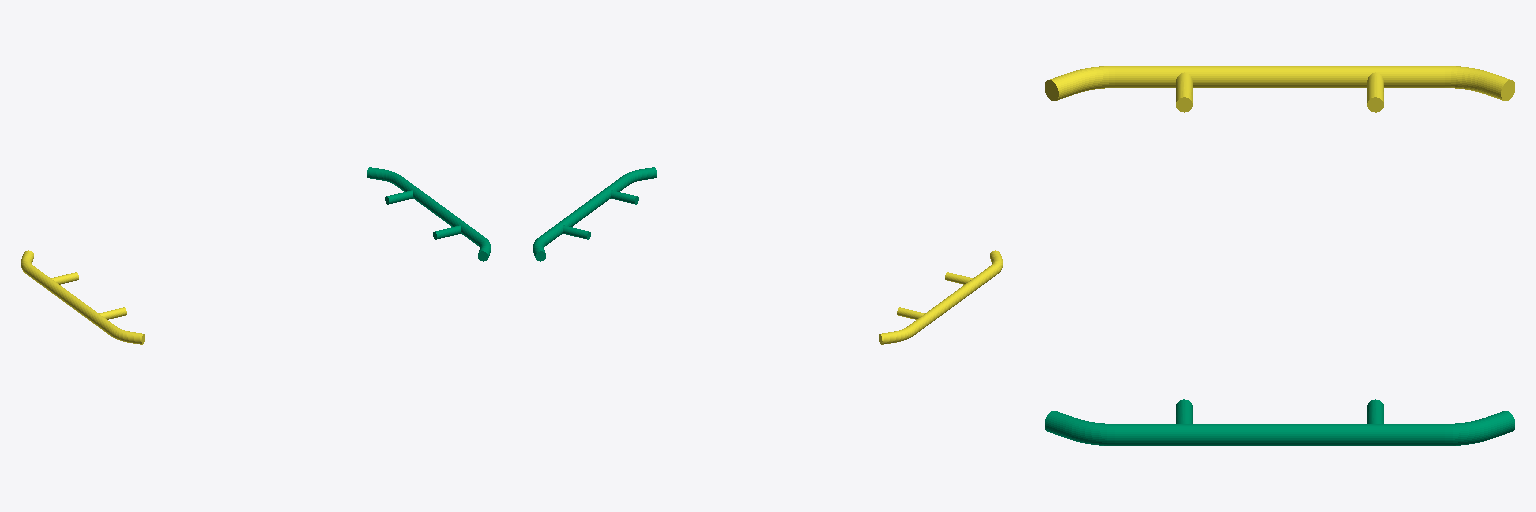
The robot description file, URDF, robot "husky":
<?xml version="1.0" ?>

<!-- ================================================================================================ -->
<!-- Note: This URDF file and associated content are based on files from the GitHub repository below. -->
<!--       Geometry files were converted as necessary to a format supported by Simscape Multibody.    -->
<!--       Adjustments were made to the URDF file for compatibility with Simscape Multibody.          -->
<!--                                                                                                  -->
<!-- GitHub source: https://github.com/husky/husky/tree/0.3.3                                         -->
<!-- ================================================================================================ -->

<!-- =================================================================================== -->
<!-- |    This document was autogenerated by xacro from husky_description/urdf/husky.urdf.xacro | -->
<!-- |    EDITING THIS FILE BY HAND IS NOT RECOMMENDED                                 | -->
<!-- =================================================================================== -->
<!--
Software License Agreement (BSD)

\file      husky.urdf.xacro
\authors   [author] <[email redacted]>, [author] <[email redacted]>
\copyright Copyright (c) 2015, Clearpath Robotics, Inc., All rights reserved.

Redistribution and use in source and binary forms, with or without modification, are permitted provided that
the following conditions are met:
 * Redistributions of source code must retain the above copyright notice, this list of conditions and the
   following disclaimer.
 * Redistributions in binary form must reproduce the above copyright notice, this list of conditions and the
   following disclaimer in the documentation and/or other materials provided with the distribution.
 * Neither the name of Clearpath Robotics nor the names of its contributors may be used to endorse or promote
   products derived from this software without specific prior written permission.

THIS SOFTWARE IS PROVIDED BY THE COPYRIGHT [author] "AS IS" AND ANY EXPRESS OR IMPLIED WAR-
RANTIES, INCLUDING, BUT NOT LIMITED TO, THE IMPLIED WARRANTIES OF MERCHANTABILITY AND FITNESS FOR A PARTICULAR
PURPOSE ARE DISCLAIMED. IN NO EVENT SHALL THE COPYRIGHT [author] LIABLE FOR ANY DIRECT, IN-
DIRECT, INCIDENTAL, SPECIAL, EXEMPLARY, OR CONSEQUENTIAL DAMAGES (INCLUDING, BUT NOT LIMITED TO, PROCUREMENT
OF SUBSTITUTE GOODS OR SERVICES; LOSS OF USE, DATA, OR PROFITS; OR BUSINESS INTERRUPTION) HOWEVER CAUSED AND
ON ANY THEORY OF LIABILITY, WHETHER IN CONTRACT, STRICT LIABILITY, OR TORT (INCLUDING NEGLIGENCE OR OTHERWISE)
ARISING IN ANY WAY OUT OF THE USE OF THIS SOFTWARE, EVEN IF ADVISED OF THE POSSIBILITY OF SUCH DAMAGE.
-->
<robot name="husky" xmlns:xacro="http://ros.org/wiki/xacro">
  <!-- Base link is the center of the robot's bottom plate -->
  <link name="base_link">
    <visual>
      <origin rpy="0 0 0" xyz="0 0 0"/>
      <geometry>
        <mesh filename="husky_base_link.stl"/>
      </geometry>
      <material name="">
        <color rgba="0.8 0.2 0.02 1"/>
      </material>
    </visual>
    <collision>
      <origin rpy="0 0 0" xyz="0.0 0 0.061875"/>
      <geometry>
        <box size="0.9874 0.5709 0.12375"/>
      </geometry>
    </collision>
    <collision>
      <origin rpy="0 0 0" xyz="0 0 0.175625"/>
      <geometry>
        <box size="0.78992 0.5709 0.10375"/>
      </geometry>
    </collision>
  </link>
  <!-- Base footprint is on the ground under the robot -->
  <link name="base_footprint"/>
  <joint name="base_footprint_joint" type="fixed">
    <origin rpy="0 0 0" xyz="0 0 -0.13228"/>
    <parent link="base_link"/>
    <child link="base_footprint"/>
  </joint>
  <!-- Interial link stores the robot's inertial information -->
  <link name="inertial_link">
    <inertial>
      <mass value="46.034"/>
      <origin xyz="-0.00065 -0.085 0.062"/>
      <inertia ixx="0.6022" ixy="-0.02364" ixz="-0.1197" iyy="1.7386" iyz="-0.001544" izz="2.0296"/>
    </inertial>
  </link>
  <joint name="inertial_joint" type="fixed">
    <origin rpy="0 0 0" xyz="0 0 0"/>
    <parent link="base_link"/>
    <child link="inertial_link"/>
  </joint>
  <!-- IMU Link is the standard mounting position for the UM6 IMU.-->
  <!-- Can be modified with environment variables in /etc/ros/setup.bash -->
  <link name="imu_link"/>
  <joint name="imu_joint" type="fixed">
    <origin rpy="0 -1.5708 3.1416" xyz="0.19 0 0.149"/>
    <parent link="base_link"/>
    <child link="imu_link"/>
  </joint>
  <gazebo reference="imu_link">
  </gazebo>
  <link name="front_left_wheel_link">
    <inertial>
      <mass value="2.637"/>
      <origin xyz="0 0 0"/>
      <inertia ixx="0.02467" ixy="0" ixz="0" iyy="0.04411" iyz="0" izz="0.02467"/>
    </inertial>
    <visual>
      <origin rpy="0 0 0" xyz="0 0 0"/>
      <geometry>
        <mesh filename="husky_wheel.stl"/>
      </geometry>
    </visual>
    <collision>
      <origin rpy="1.570795 0 0" xyz="0 0 0"/>
      <geometry>
        <cylinder length="0.1143" radius="0.1651"/>
      </geometry>
    </collision>
  </link>
  <gazebo reference="front_left_wheel_link">
    <mu1 value="1.0"/>
    <mu2 value="1.0"/>
    <kp value="10000000.0"/>
    <kd value="1.0"/>
    <fdir1 value="1 0 0"/>
  </gazebo>
  <joint name="front_left_wheel" type="continuous">
    <parent link="base_link"/>
    <child link="front_left_wheel_link"/>
    <origin rpy="0 0 0" xyz="0.256 0.2854 0.03282"/>
    <axis rpy="0 0 0" xyz="0 1 0"/>
  </joint>
  <transmission name="front_left_wheel_trans" type="SimpleTransmission">
    <type>transmission_interface/SimpleTransmission</type>
    <actuator name="front_left_wheel_motor">
      <mechanicalReduction>1</mechanicalReduction>
    </actuator>
    <joint name="front_left_wheel">
      <hardwareInterface>hardware_interface/VelocityJointInterface</hardwareInterface>
    </joint>
  </transmission>
  <link name="front_right_wheel_link">
    <inertial>
      <mass value="2.637"/>
      <origin xyz="0 0 0"/>
      <inertia ixx="0.02467" ixy="0" ixz="0" iyy="0.04411" iyz="0" izz="0.02467"/>
    </inertial>
    <visual>
      <origin rpy="0 0 0" xyz="0 0 0"/>
      <geometry>
        <mesh filename="husky_wheel.stl"/>
      </geometry>
    </visual>
    <collision>
      <origin rpy="1.570795 0 0" xyz="0 0 0"/>
      <geometry>
        <cylinder length="0.1143" radius="0.1651"/>
      </geometry>
    </collision>
  </link>
  <gazebo reference="front_right_wheel_link">
    <mu1 value="1.0"/>
    <mu2 value="1.0"/>
    <kp value="10000000.0"/>
    <kd value="1.0"/>
    <fdir1 value="1 0 0"/>
  </gazebo>
  <joint name="front_right_wheel" type="continuous">
    <parent link="base_link"/>
    <child link="front_right_wheel_link"/>
    <origin rpy="0 0 0" xyz="0.256 -0.2854 0.03282"/>
    <axis rpy="0 0 0" xyz="0 1 0"/>
  </joint>
  <transmission name="front_right_wheel_trans" type="SimpleTransmission">
    <type>transmission_interface/SimpleTransmission</type>
    <actuator name="front_right_wheel_motor">
      <mechanicalReduction>1</mechanicalReduction>
    </actuator>
    <joint name="front_right_wheel">
      <hardwareInterface>hardware_interface/VelocityJointInterface</hardwareInterface>
    </joint>
  </transmission>
  <link name="rear_left_wheel_link">
    <inertial>
      <mass value="2.637"/>
      <origin xyz="0 0 0"/>
      <inertia ixx="0.02467" ixy="0" ixz="0" iyy="0.04411" iyz="0" izz="0.02467"/>
    </inertial>
    <visual>
      <origin rpy="0 0 0" xyz="0 0 0"/>
      <geometry>
        <mesh filename="husky_wheel.stl"/>
      </geometry>
    </visual>
    <collision>
      <origin rpy="1.570795 0 0" xyz="0 0 0"/>
      <geometry>
        <cylinder length="0.1143" radius="0.1651"/>
      </geometry>
    </collision>
  </link>
  <gazebo reference="rear_left_wheel_link">
    <mu1 value="1.0"/>
    <mu2 value="1.0"/>
    <kp value="10000000.0"/>
    <kd value="1.0"/>
    <fdir1 value="1 0 0"/>
  </gazebo>
  <joint name="rear_left_wheel" type="continuous">
    <parent link="base_link"/>
    <child link="rear_left_wheel_link"/>
    <origin rpy="0 0 0" xyz="-0.256 0.2854 0.03282"/>
    <axis rpy="0 0 0" xyz="0 1 0"/>
  </joint>
  <transmission name="rear_left_wheel_trans" type="SimpleTransmission">
    <type>transmission_interface/SimpleTransmission</type>
    <actuator name="rear_left_wheel_motor">
      <mechanicalReduction>1</mechanicalReduction>
    </actuator>
    <joint name="rear_left_wheel">
      <hardwareInterface>hardware_interface/VelocityJointInterface</hardwareInterface>
    </joint>
  </transmission>
  <link name="rear_right_wheel_link">
    <inertial>
      <mass value="2.637"/>
      <origin xyz="0 0 0"/>
      <inertia ixx="0.02467" ixy="0" ixz="0" iyy="0.04411" iyz="0" izz="0.02467"/>
    </inertial>
    <visual>
      <origin rpy="0 0 0" xyz="0 0 0"/>
      <geometry>
        <mesh filename="husky_wheel.stl"/>
      </geometry>
    </visual>
    <collision>
      <origin rpy="1.570795 0 0" xyz="0 0 0"/>
      <geometry>
        <cylinder length="0.1143" radius="0.1651"/>
      </geometry>
    </collision>
  </link>
  <gazebo reference="rear_right_wheel_link">
    <mu1 value="1.0"/>
    <mu2 value="1.0"/>
    <kp value="10000000.0"/>
    <kd value="1.0"/>
    <fdir1 value="1 0 0"/>
  </gazebo>
  <joint name="rear_right_wheel" type="continuous">
    <parent link="base_link"/>
    <child link="rear_right_wheel_link"/>
    <origin rpy="0 0 0" xyz="-0.256 -0.2854 0.03282"/>
    <axis rpy="0 0 0" xyz="0 1 0"/>
  </joint>
  <transmission name="rear_right_wheel_trans" type="SimpleTransmission">
    <type>transmission_interface/SimpleTransmission</type>
    <actuator name="rear_right_wheel_motor">
      <mechanicalReduction>1</mechanicalReduction>
    </actuator>
    <joint name="rear_right_wheel">
      <hardwareInterface>hardware_interface/VelocityJointInterface</hardwareInterface>
    </joint>
  </transmission>
  <!-- Spawn Husky chassis -->
  <link name="top_chassis_link">
    <visual>
      <origin rpy="0 0 0" xyz="0 0 0"/>
      <geometry>
        <mesh filename="husky_top_chassis.stl"/>
      </geometry>
      <material name="">
        <color rgba="0.7 0.56 0.02 1"/>
      </material>
    </visual>
  </link>
  <!-- Attach chassis to the robot -->
  <joint name="top_chassis_joint" type="fixed">
    <parent link="base_link"/>
    <child link="top_chassis_link"/>
  </joint>
  <!-- Spawn user rails -->
  <link name="user_rail_link">
    <visual>
      <origin rpy="0 0 0" xyz="0 0 0"/>
      <geometry>
        <mesh filename="husky_user_rail.stl"/>
      </geometry>
      <material name="">
        <color rgba="0.7 0.04 0.04 1"/>
      </material>
    </visual>
  </link>
  <!-- Attach user rails to base link -->
  <joint name="user_rail" type="fixed">
    <origin rpy="0 0 0" xyz="0.272 0 0.245"/>
    <parent link="base_link"/>
    <child link="user_rail_link"/>
  </joint>
  <!-- Spawn front bumper link -->
  <link name="front_bumper_link">
    <visual>
      <origin rpy="0 0 0" xyz="0 0 0"/>
      <geometry>
        <mesh filename="husky_bumper.stl"/>
      </geometry>
    </visual>
  </link>
  <!-- Attach front bumper -->
  <joint name="front_bumper" type="fixed">
    <origin rpy="0 0 0" xyz="0.48 0 0.091"/>
    <parent link="base_link"/>
    <child link="front_bumper_link"/>
  </joint>
  <!-- Spawn rear bumper link -->
  <link name="rear_bumper_link">
    <visual>
      <origin rpy="0 0 0" xyz="0 0 0"/>
      <geometry>
        <mesh filename="husky_bumper.stl"/>
      </geometry>
    </visual>
  </link>
  <!-- Attach rear bumper -->
  <joint name="rear_bumper" type="fixed">
    <origin rpy="0 0 3.14159" xyz="-0.48 0 0.091"/>
    <parent link="base_link"/>
    <child link="rear_bumper_link"/>
  </joint>
  <link name="top_plate_link">
    <visual>
      <origin rpy="0 0 0" xyz="-0.05 -0.5 0"/>
      <geometry>
        <mesh filename="husky_top_plate.stl"/>
      </geometry>
    </visual>
    <collision>
      <origin rpy="0 0 0" xyz="0 0 0"/>
      <geometry>
        <mesh filename="package://husky_description/meshes/top_plate.stl"/>
      </geometry>
    </collision>
  </link>
  <!-- Attach top plate -->
  <joint name="top_plate_joint" type="fixed">
    <parent link="base_link"/>
    <child link="top_plate_link"/>
    <origin rpy="0 0 0" xyz="0.0812 0.5 0.245"/>
  </joint>
  <!-- Top plate front link -->
  <joint name="top_plate_front_joint" type="fixed">
    <parent link="top_plate_link"/>
    <child link="top_plate_front_link"/>
    <origin rpy="0 0 0" xyz="0.36367 0 0.00639"/>
  </joint>
  <!-- Top plate rear link-->
  <joint name="top_plate_rear_joint" type="fixed">
    <parent link="top_plate_link"/>
    <child link="top_plate_rear_link"/>
    <origin rpy="0 0 0" xyz="-0.36633 0 0.00639"/>
  </joint>
  <link name="top_plate_front_link"/>
  <link name="top_plate_rear_link"/>
  <gazebo>
    <plugin filename="libgazebo_ros_control.so" name="gazebo_ros_control">
      <robotNamespace>/</robotNamespace>
    </plugin>
  </gazebo>
  <gazebo>
    <plugin filename="libhector_gazebo_ros_imu.so" name="imu_controller">
      <robotNamespace>/</robotNamespace>
      <updateRate>50.0</updateRate>
      <bodyName>base_link</bodyName>
      <topicName>imu/data</topicName>
      <accelDrift>0.005 0.005 0.005</accelDrift>
      <accelGaussianNoise>0.005 0.005 0.005</accelGaussianNoise>
      <rateDrift>0.005 0.005 0.005 </rateDrift>
      <rateGaussianNoise>0.005 0.005 0.005 </rateGaussianNoise>
      <headingDrift>0.005</headingDrift>
      <headingGaussianNoise>0.005</headingGaussianNoise>
    </plugin>
  </gazebo>
  <gazebo>
    <plugin filename="libhector_gazebo_ros_gps.so" name="gps_controller">
      <robotNamespace>/</robotNamespace>
      <updateRate>40</updateRate>
      <bodyName>base_link</bodyName>
      <frameId>base_link</frameId>
      <topicName>navsat/fix</topicName>
      <velocityTopicName>navsat/vel</velocityTopicName>
      <referenceLatitude>49.9</referenceLatitude>
      <referenceLongitude>8.9</referenceLongitude>
      <referenceHeading>0</referenceHeading>
      <referenceAltitude>0</referenceAltitude>
      <drift>0.0001 0.0001 0.0001</drift>
    </plugin>
  </gazebo>
  <!-- This file is a placeholder which is included by default from
       husky.urdf.xacro. If a robot is being customized and requires
       additional URDF, set the HUSKY_URDF_EXTRAS environment variable
       to the full path of the file you would like included. -->
</robot>

--- What the picture shows (computed from the rendered views, not written in the file) ---
The picture shows the robot from 3 angles, left to right: view 1: azimuth 30°, elevation 25°; view 2: azimuth 150°, elevation 25°; view 3: azimuth 270°, elevation 25°; orthographic projection.
Model husky with 15 links and 14 joints (4 continuous, 10 fixed), rooted at base_link, posed every joint at zero.
Visible links, largest first — view 1: rear_bumper_link, front_bumper_link; view 2: front_bumper_link, rear_bumper_link; view 3: front_bumper_link, rear_bumper_link.
Link boxes in pixels (left/top/right/bottom): rear_bumper_link: left=21, top=250, right=144, bottom=344; front_bumper_link: left=367, top=167, right=490, bottom=261; front_bumper_link: left=533, top=167, right=656, bottom=261; rear_bumper_link: left=879, top=250, right=1002, bottom=344; front_bumper_link: left=1045, top=399, right=1514, bottom=445; rear_bumper_link: left=1045, top=66, right=1514, bottom=112.
Size in the robot's own frame: 0.9854 by 0.5337 by 0.0254 metres.
2 mesh visuals loaded from 6 distinct referenced files (1 binary STL); not drawn: 8 (reference not matched to a file when rendering).